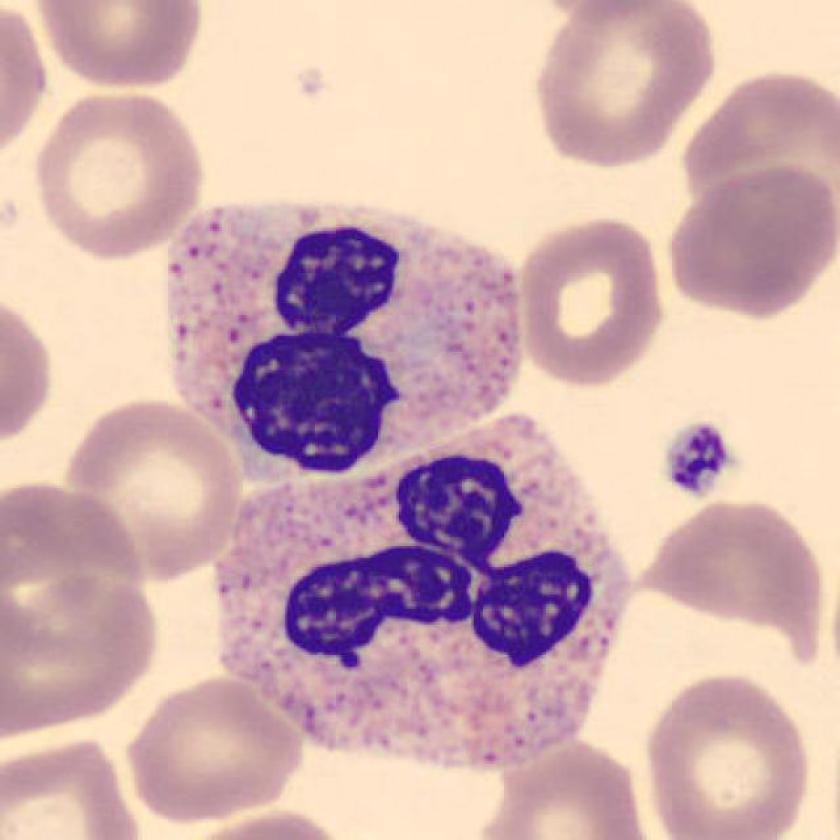neutrophil: (207, 413, 630, 768), (169, 202, 522, 481)
